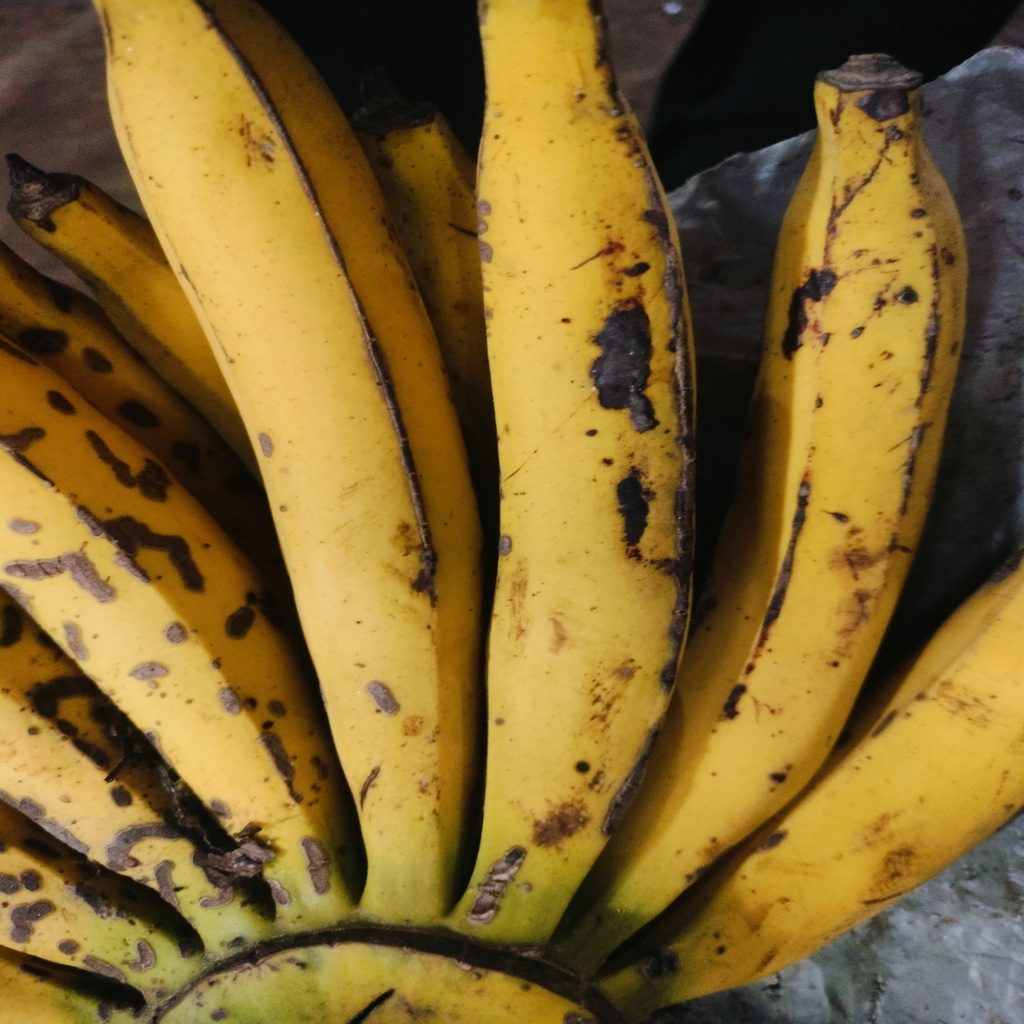unhealthy: (98, 4, 481, 827), (627, 68, 967, 883), (481, 5, 694, 843)
